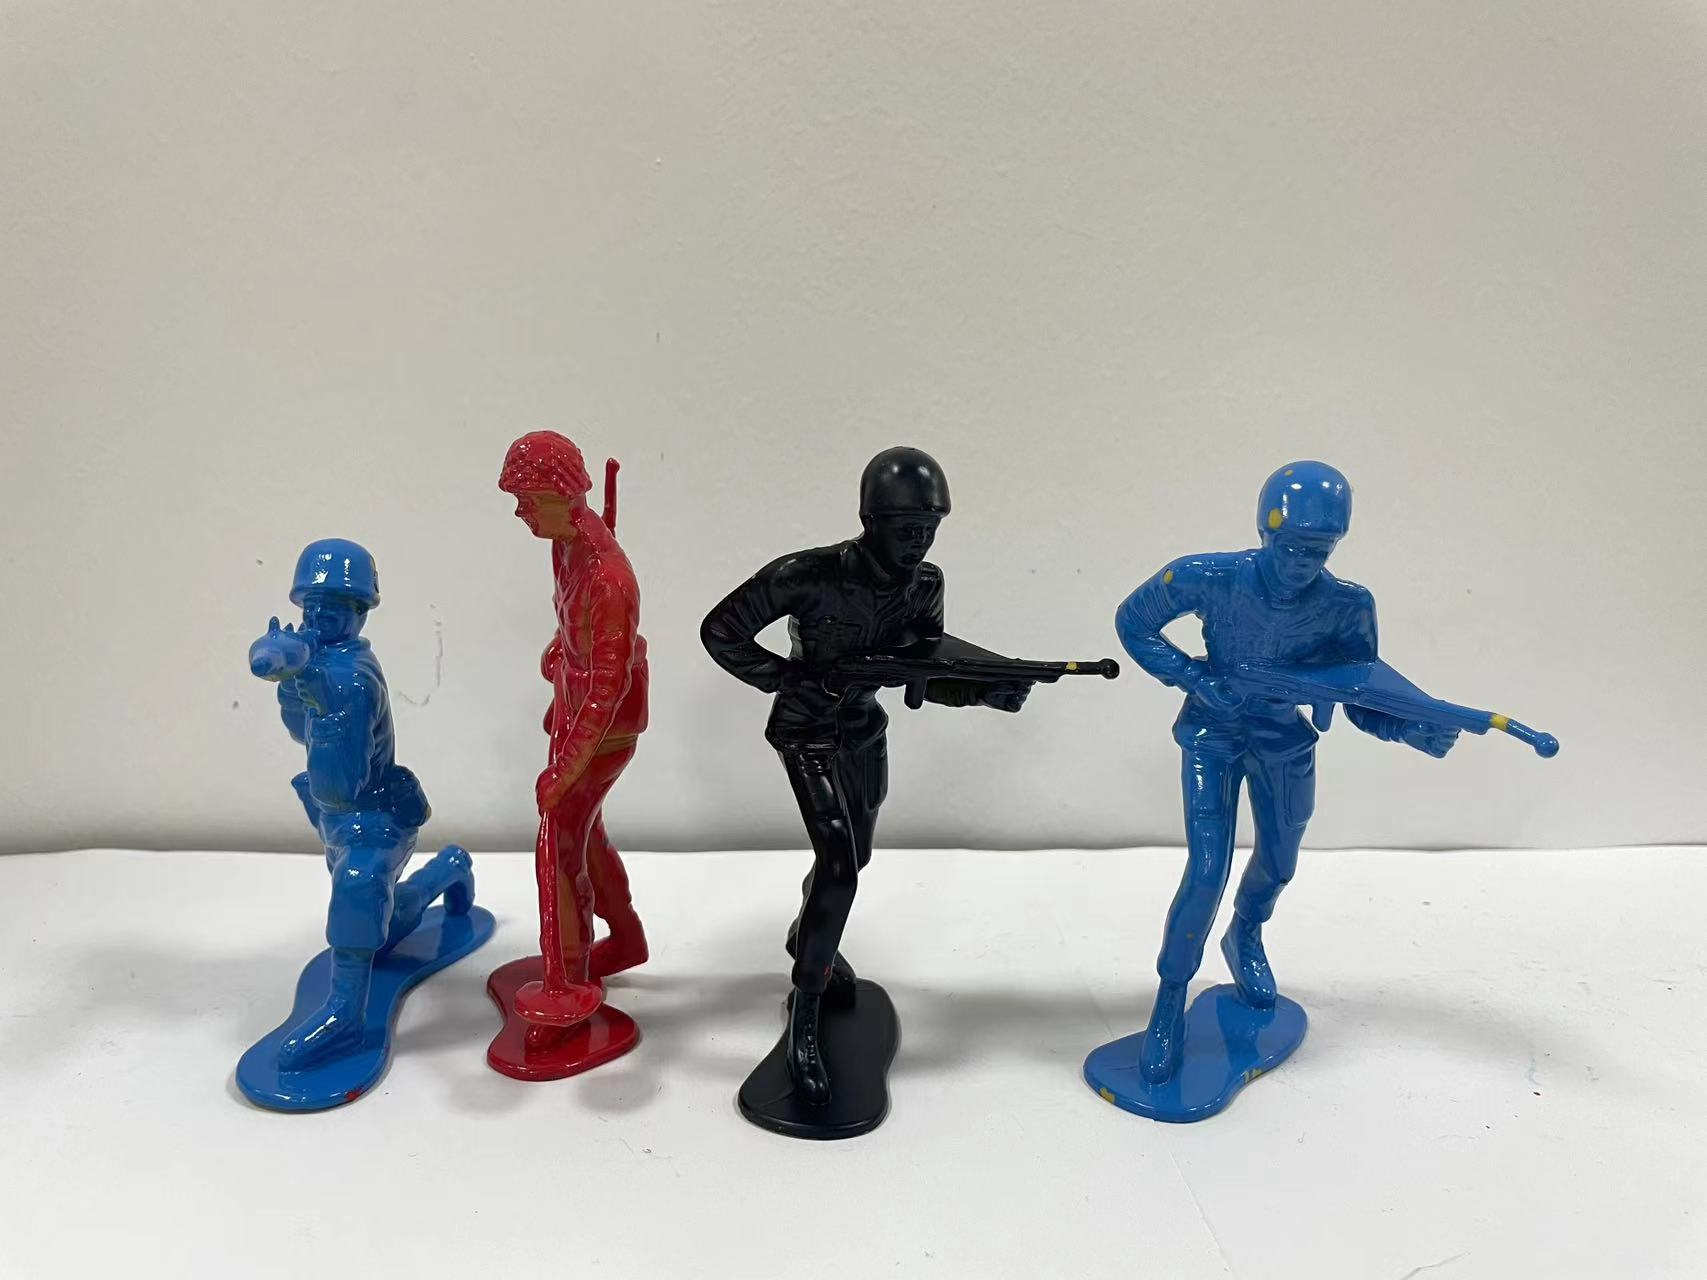black: (667, 394, 1052, 1182)
blue: (1071, 442, 1578, 1185), (187, 516, 481, 1131)
red: (430, 424, 685, 1146)
